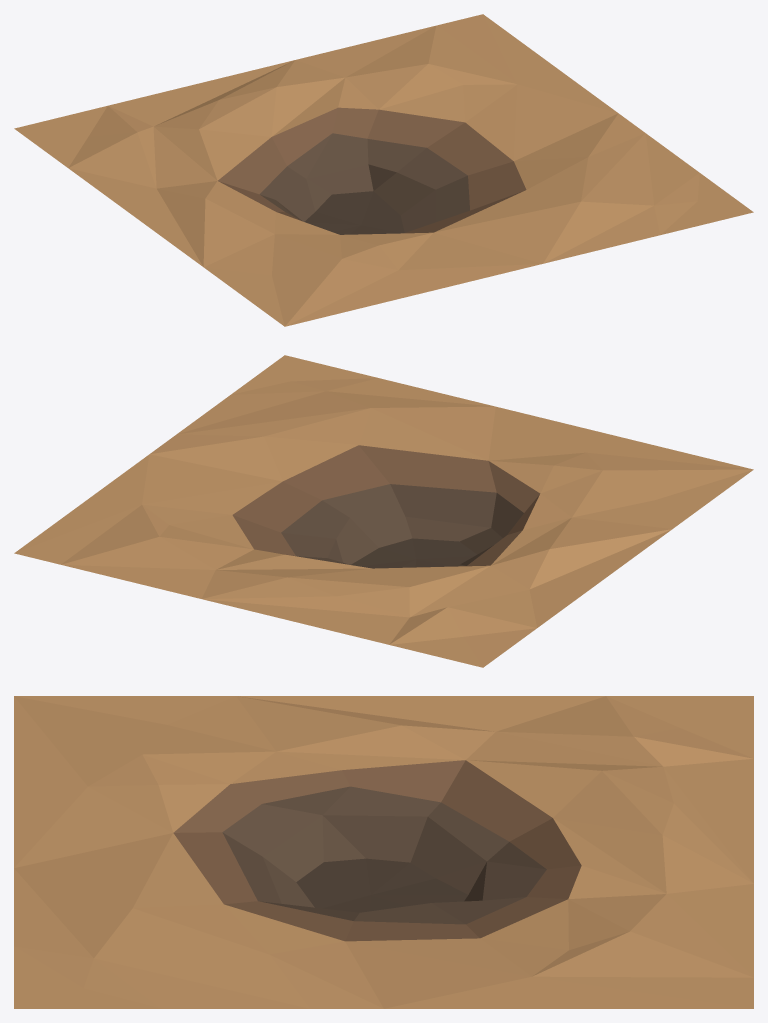
File: TB_D_Env_Tile_Lake_A.FBX
3 renders of one model, top to bottom at view 1: azimuth 30°, elevation 25°; view 2: azimuth 150°, elevation 25°; view 3: azimuth 270°, elevation 25°, orthographic. The views are drawn at different scales.
Parts seen in each view (by area): view 1: TB_D_Env_Tile_Lake_A; view 2: TB_D_Env_Tile_Lake_A; view 3: TB_D_Env_Tile_Lake_A.
Boxes of the visible parts, x1,y1,x2,y2 form: TB_D_Env_Tile_Lake_A: [14, 14, 753, 326]; TB_D_Env_Tile_Lake_A: [14, 355, 753, 667]; TB_D_Env_Tile_Lake_A: [14, 696, 753, 1008].
Size of the model in its own units: 20 by 2.24 by 20.
